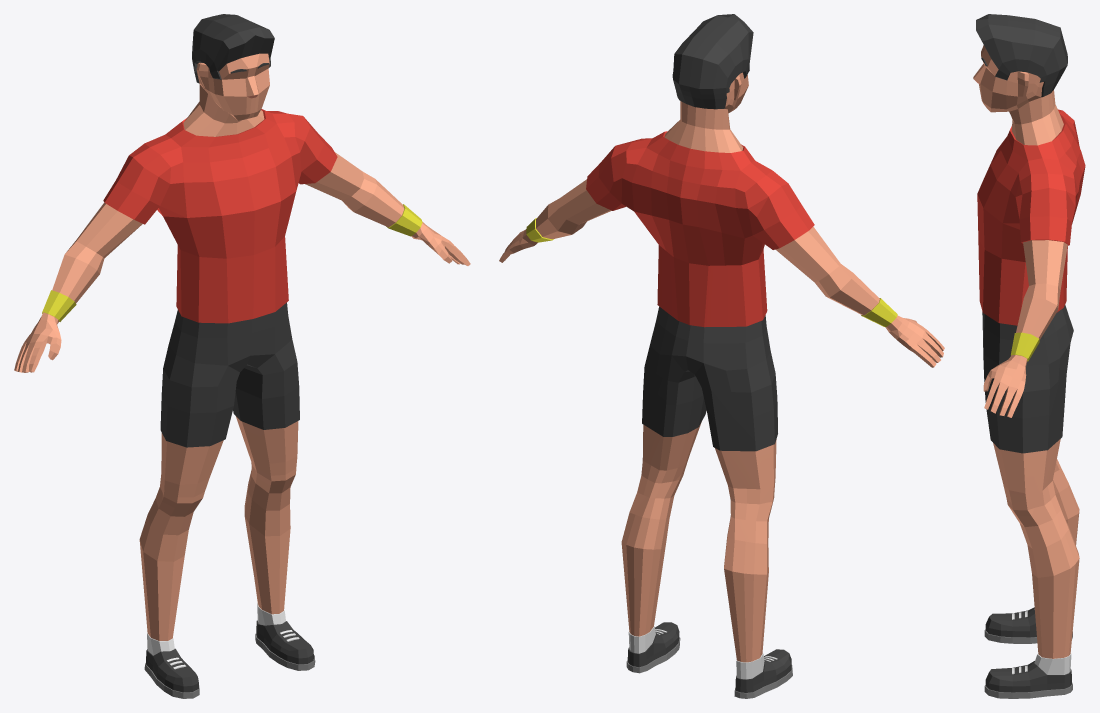
The model's file is red.glb.
3 renders of one model, left to right at view 1: azimuth 30°, elevation 25°; view 2: azimuth 150°, elevation 25°; view 3: azimuth 270°, elevation 25°, orthographic. The views are drawn at different scales.
Parts seen in each view (by area): view 1: character3; view 2: character3; view 3: character3.
Boxes of the visible parts, bbox=[...] form: character3: bbox=[14, 14, 470, 698]; character3: bbox=[499, 14, 944, 698]; character3: bbox=[973, 14, 1085, 698].
Bounding box in the file's own units: 1.33 × 1.86 × 0.2926.
